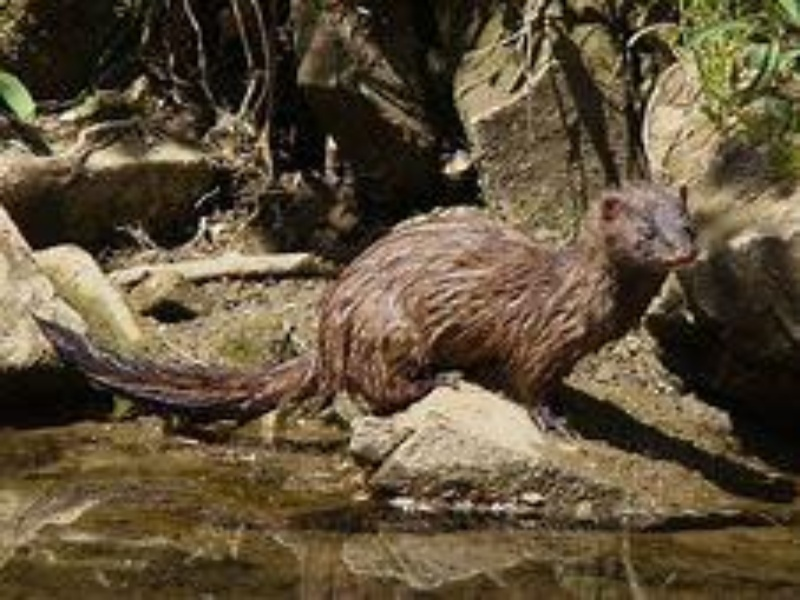minkish: (26, 175, 703, 451)
